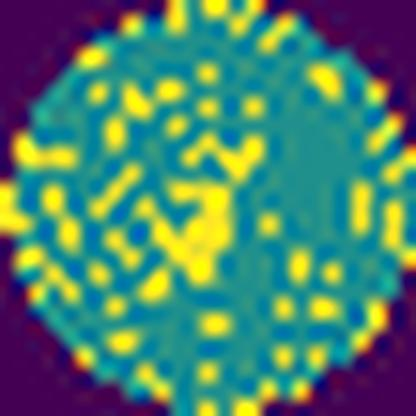Center: (133, 177, 240, 297)
